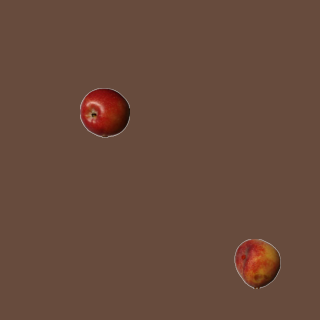Apple Braeburn: (79, 87, 129, 137)
Peach: (232, 238, 282, 288)
